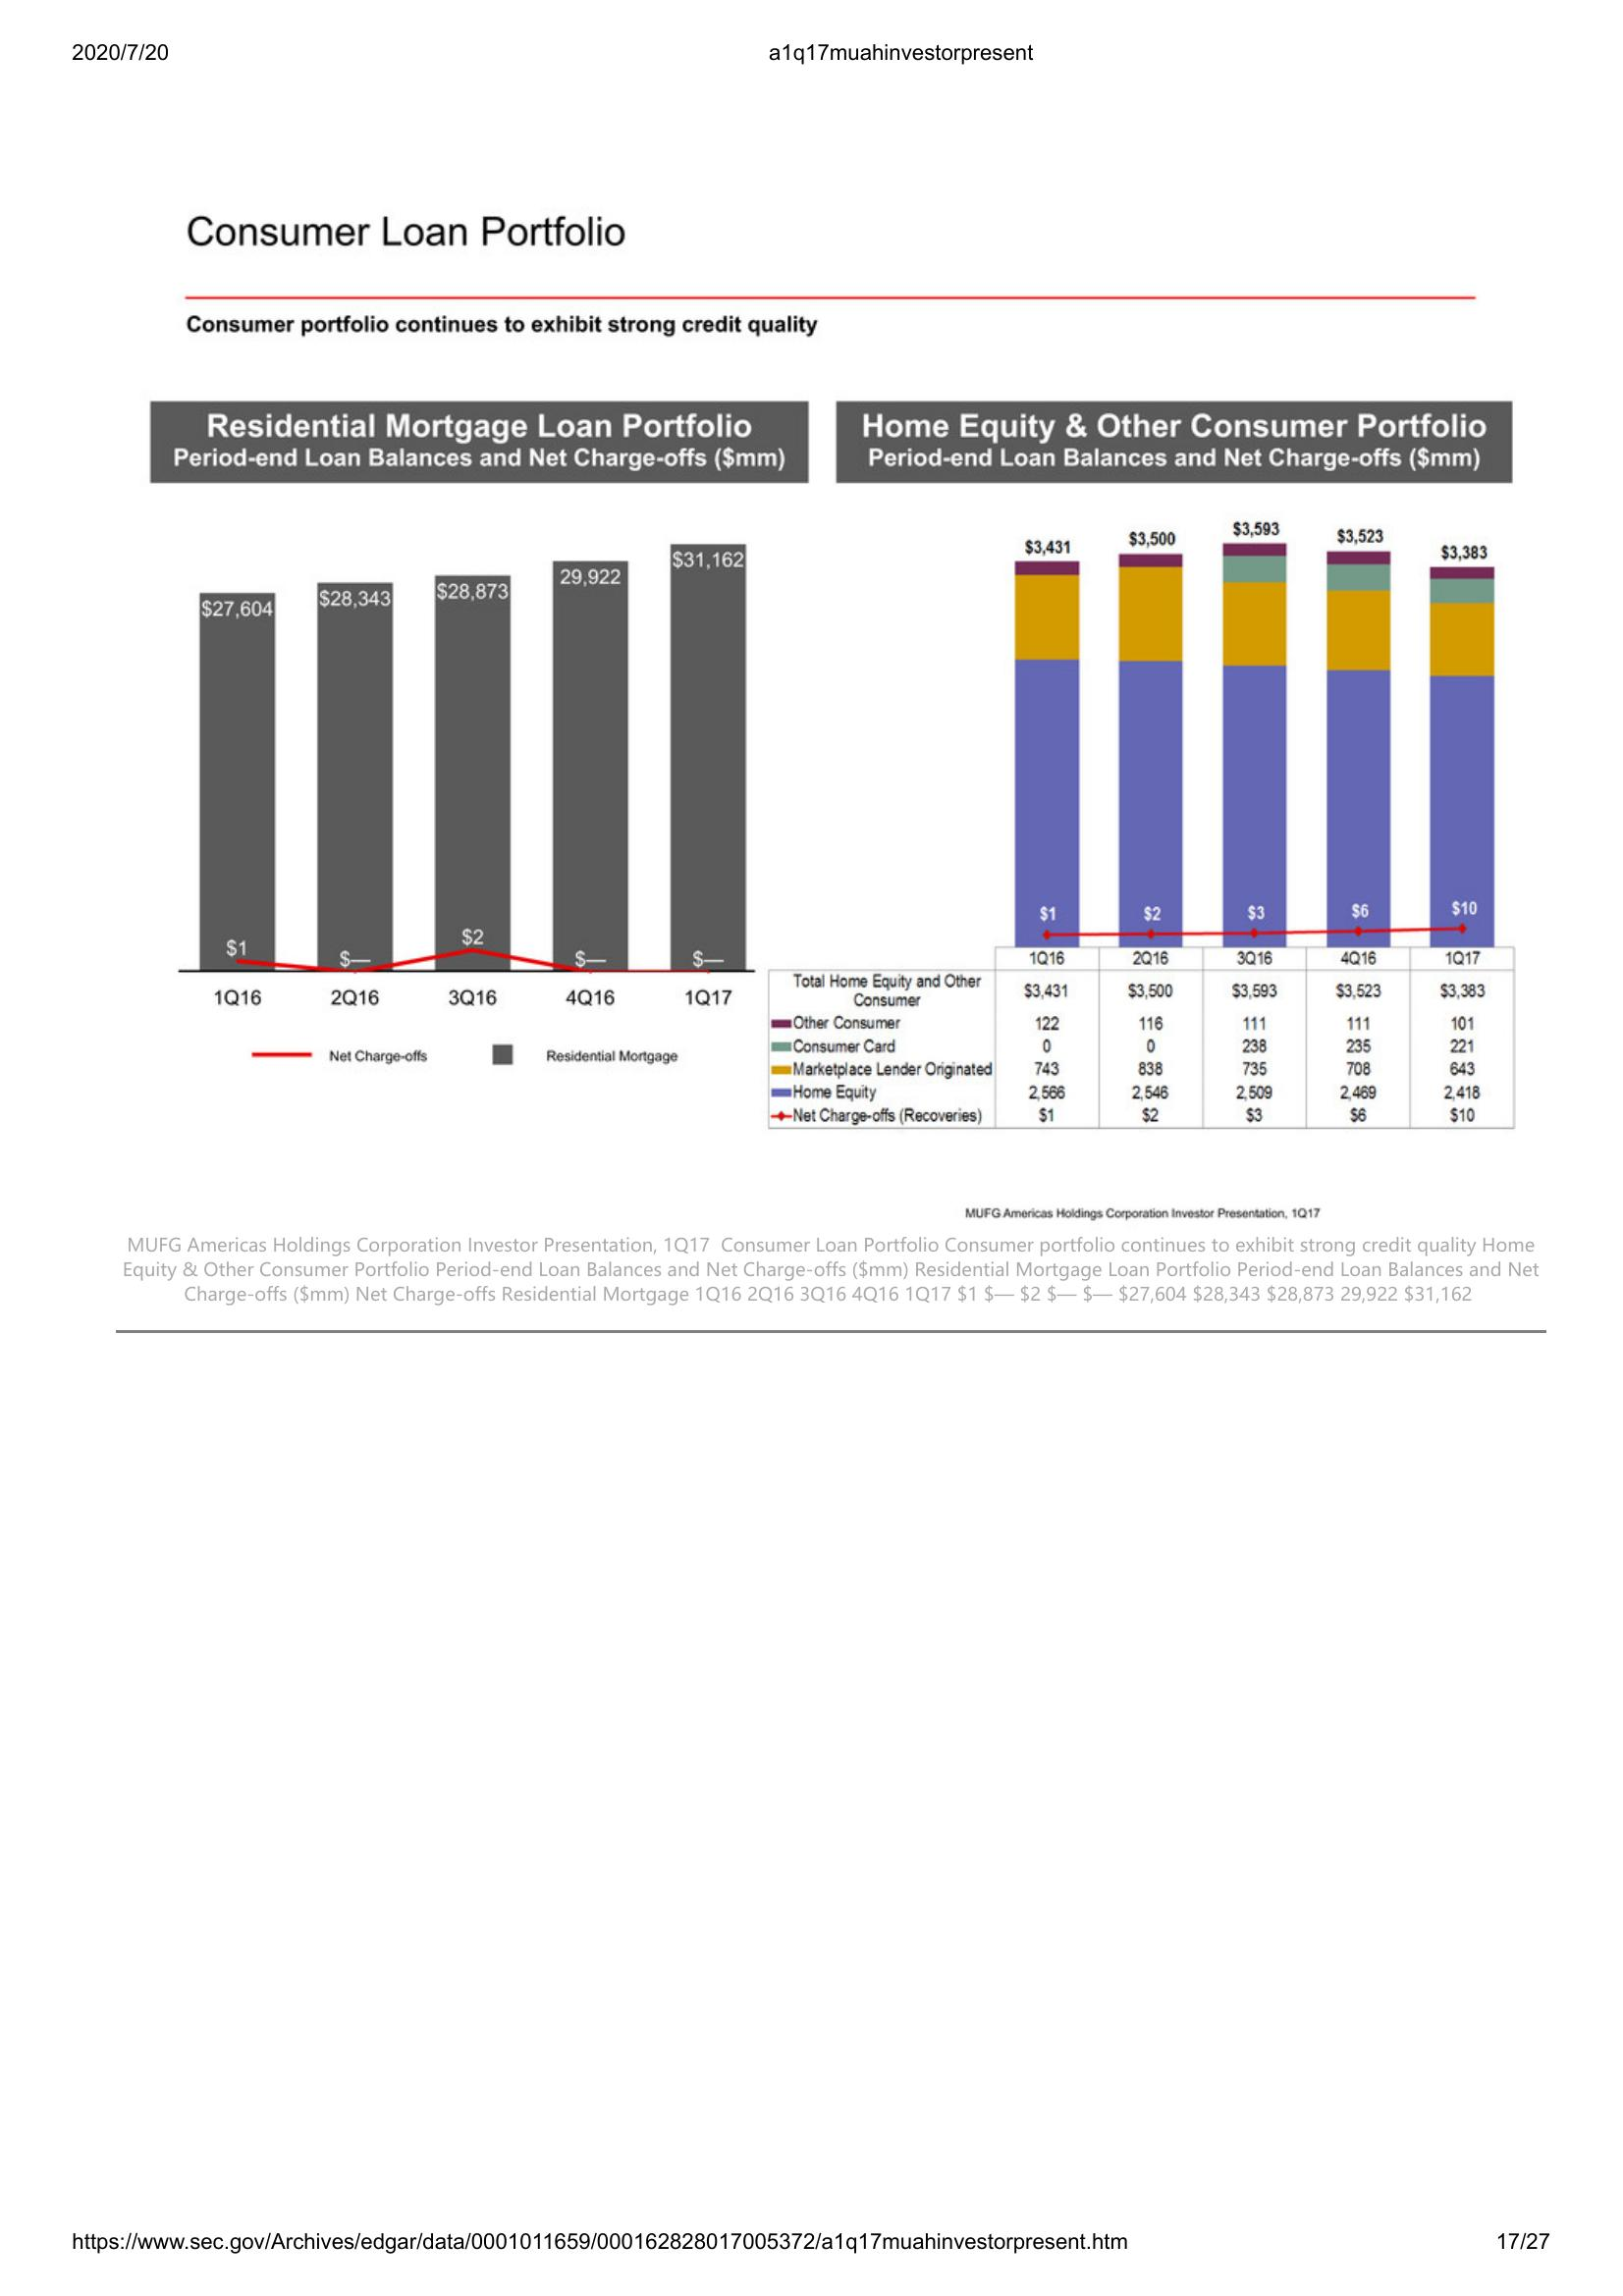table: (768, 943, 1525, 1137)
